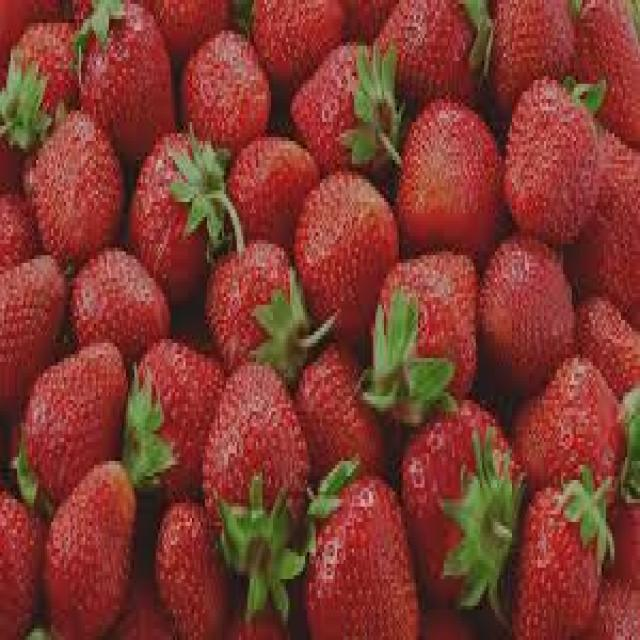strawberry: (400, 398, 522, 608), (201, 360, 310, 545), (19, 339, 129, 505), (294, 168, 400, 340), (398, 98, 503, 262), (503, 76, 604, 246), (128, 335, 228, 500), (373, 251, 477, 408), (78, 1, 175, 164), (26, 110, 123, 272), (126, 138, 224, 297), (480, 235, 575, 396), (290, 39, 390, 181), (206, 236, 302, 377)
